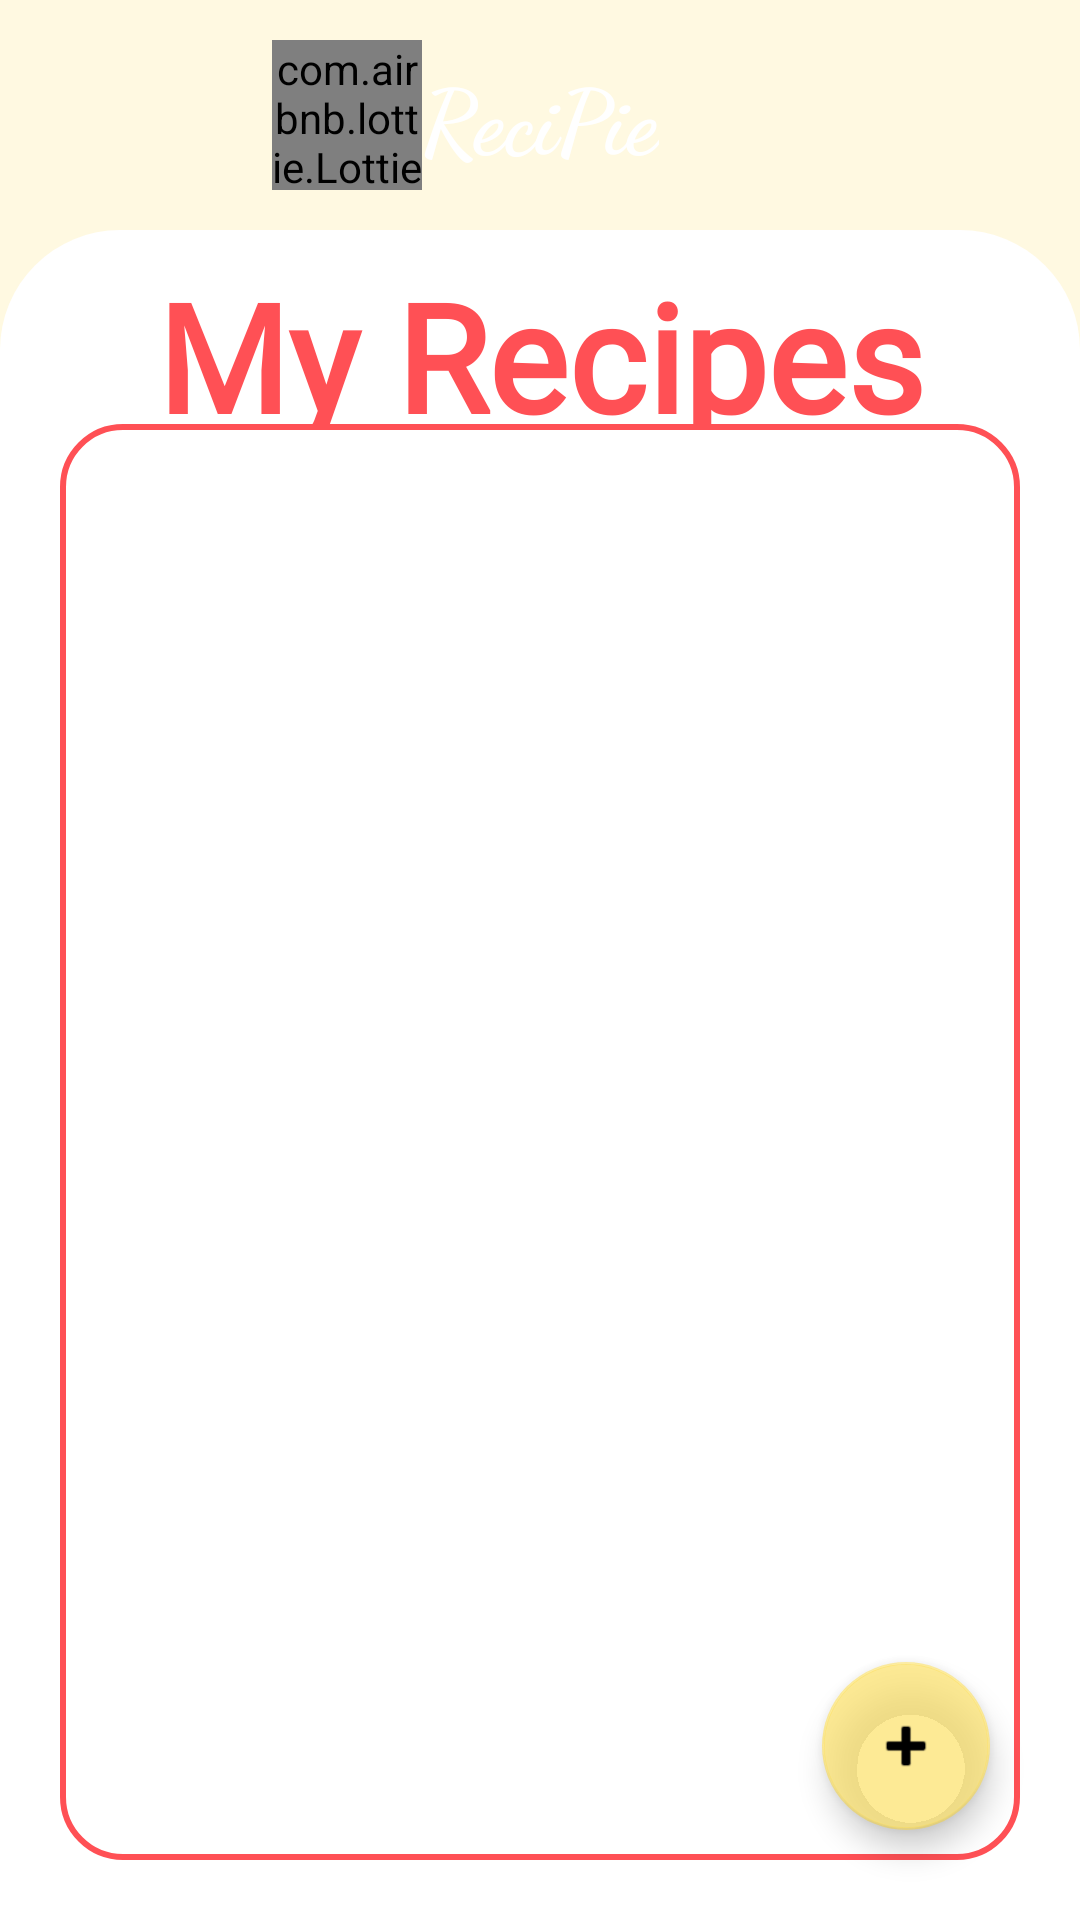

Named icons in this screenshot (1080*1920) and their centers, point (x, y):
add: point (906, 1746)
